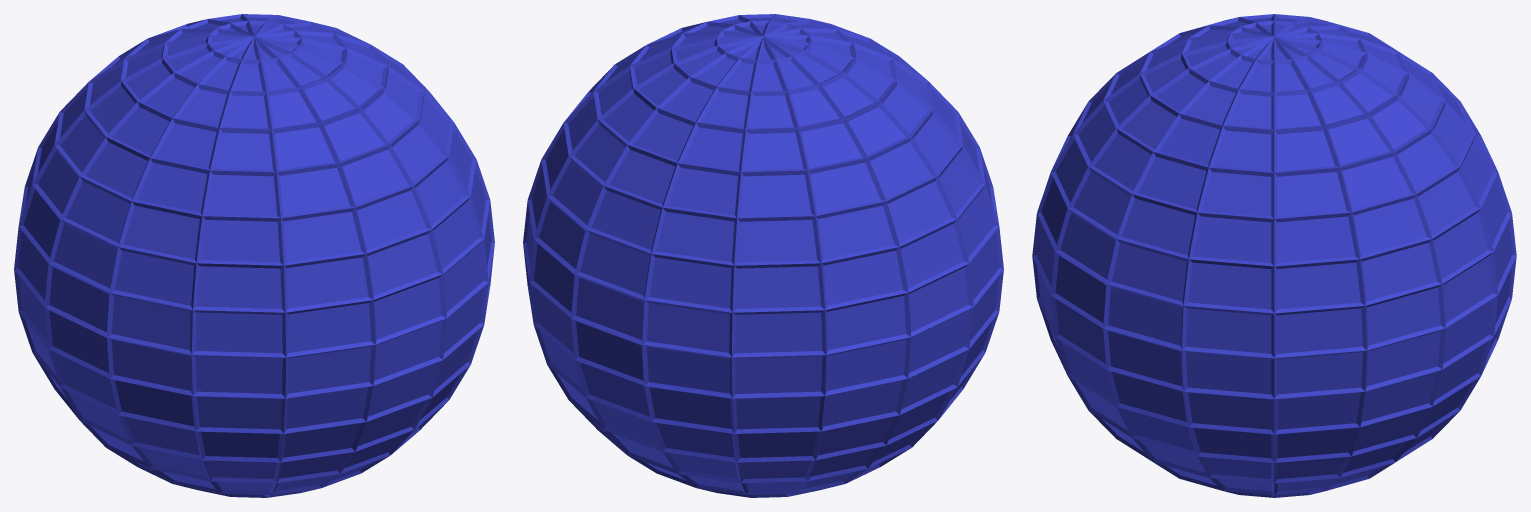
The model's file is webtrcc.dae.
The picture shows the model from 3 angles, left to right: view 1: azimuth 30°, elevation 25°; view 2: azimuth 150°, elevation 25°; view 3: azimuth 270°, elevation 25°; orthographic projection.
Parts seen in each view (by area): view 1: Sphere_002; view 2: Sphere_002; view 3: Sphere_002.
Boxes of the visible parts, x1,y1,x2,y2 form: Sphere_002: (14, 14, 494, 497); Sphere_002: (523, 14, 1003, 497); Sphere_002: (1032, 14, 1516, 497).
Bounding box in the file's own units: 2.03 × 2.03 × 2.03.
